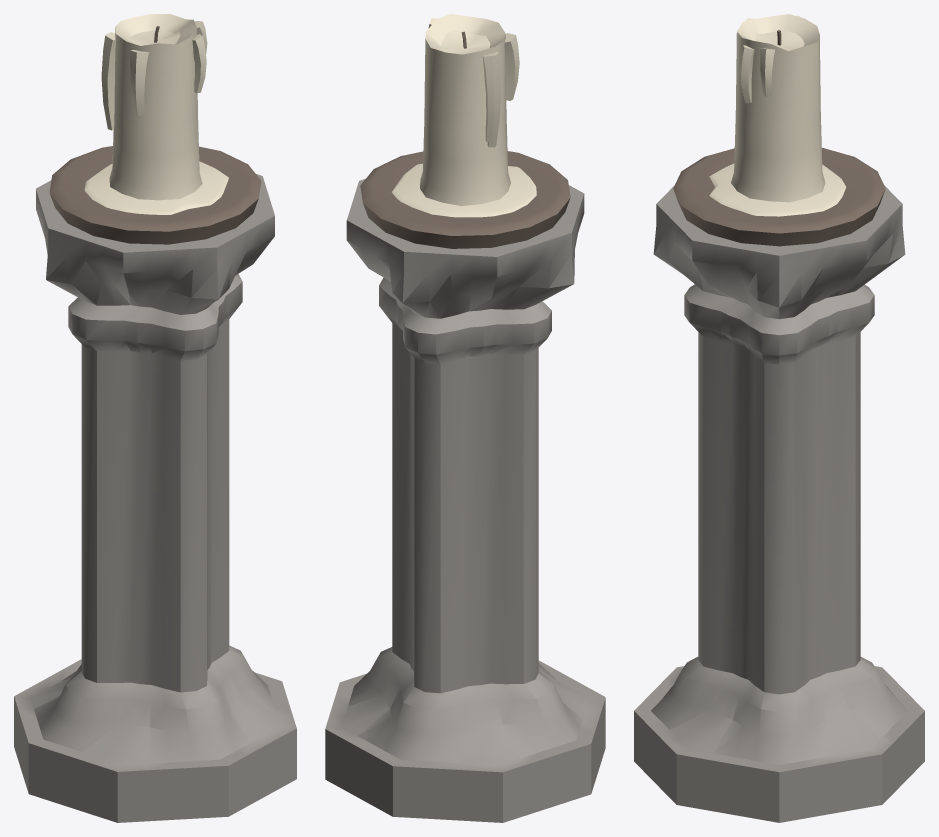
File: pillar_candle_stand.glb
3 views of the same model, side by side, from view 1: azimuth 30°, elevation 25°; view 2: azimuth 150°, elevation 25°; view 3: azimuth 270°, elevation 25° (orthographic).
Visible parts, largest first — view 1: pillar_candle_stand; view 2: pillar_candle_stand; view 3: pillar_candle_stand.
Part boxes in pixels (x1=…): pillar_candle_stand: x1=14, y1=14, x2=296, y2=822; pillar_candle_stand: x1=325, y1=14, x2=605, y2=822; pillar_candle_stand: x1=634, y1=14, x2=924, y2=822.
Bounding box in the file's own units: 0.52 × 1.45 × 0.52.
